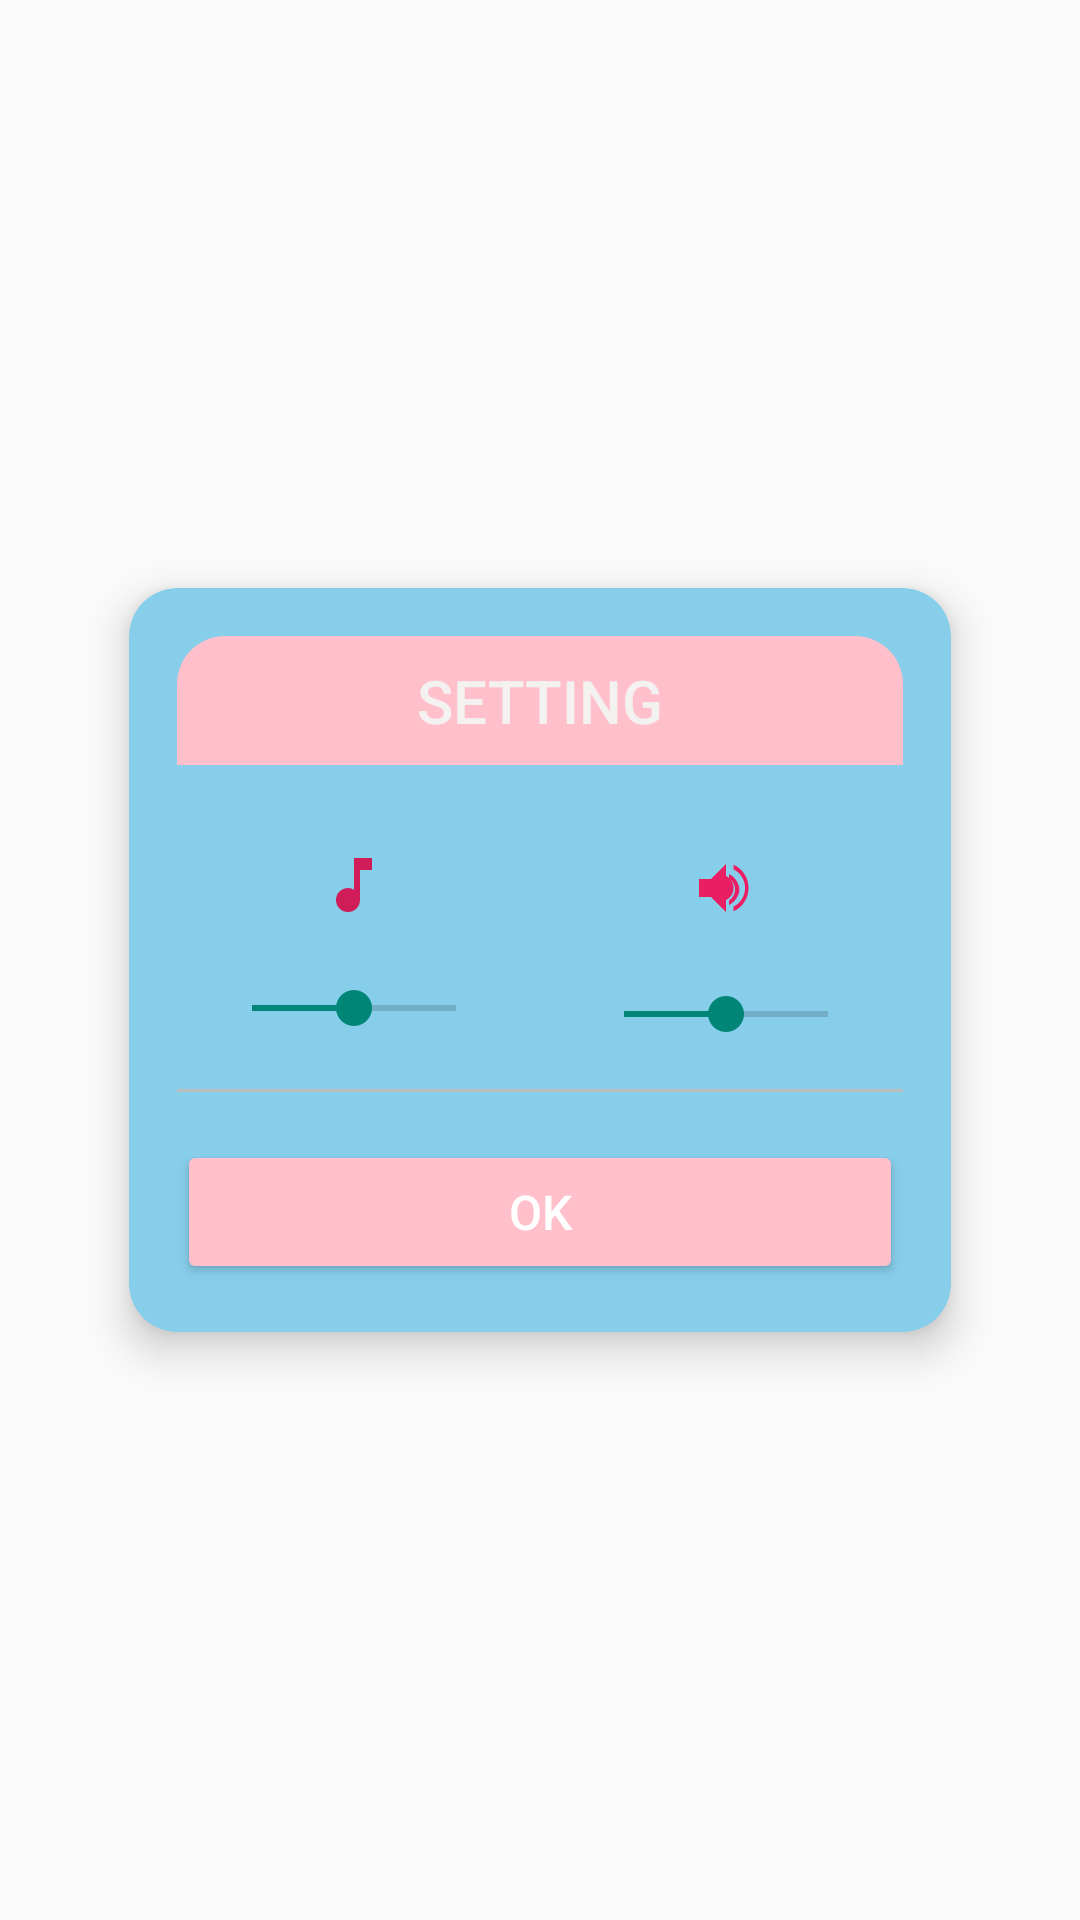

Point at icon controls on the screen. Image size 1080w x 1920h, points as (x,y).
Music toggle: (354,885)
Sound toggle: (724,888)
